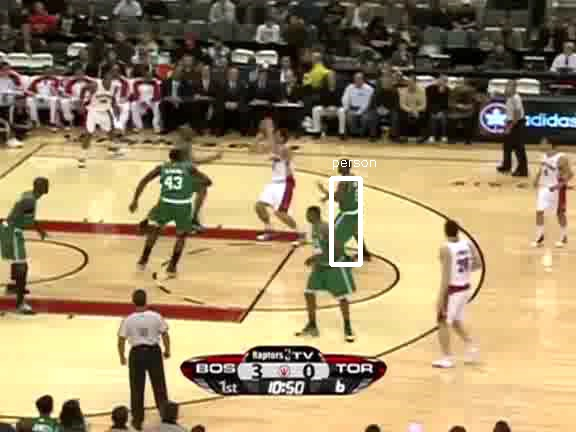person: (333, 169, 367, 250), (332, 169, 366, 250), (334, 169, 368, 250), (333, 168, 367, 249), (333, 170, 367, 251)
target_negative: (118, 228, 533, 364), (160, 277, 430, 400), (428, 196, 576, 389), (299, 49, 379, 159), (501, 100, 510, 252), (426, 383, 570, 389)
